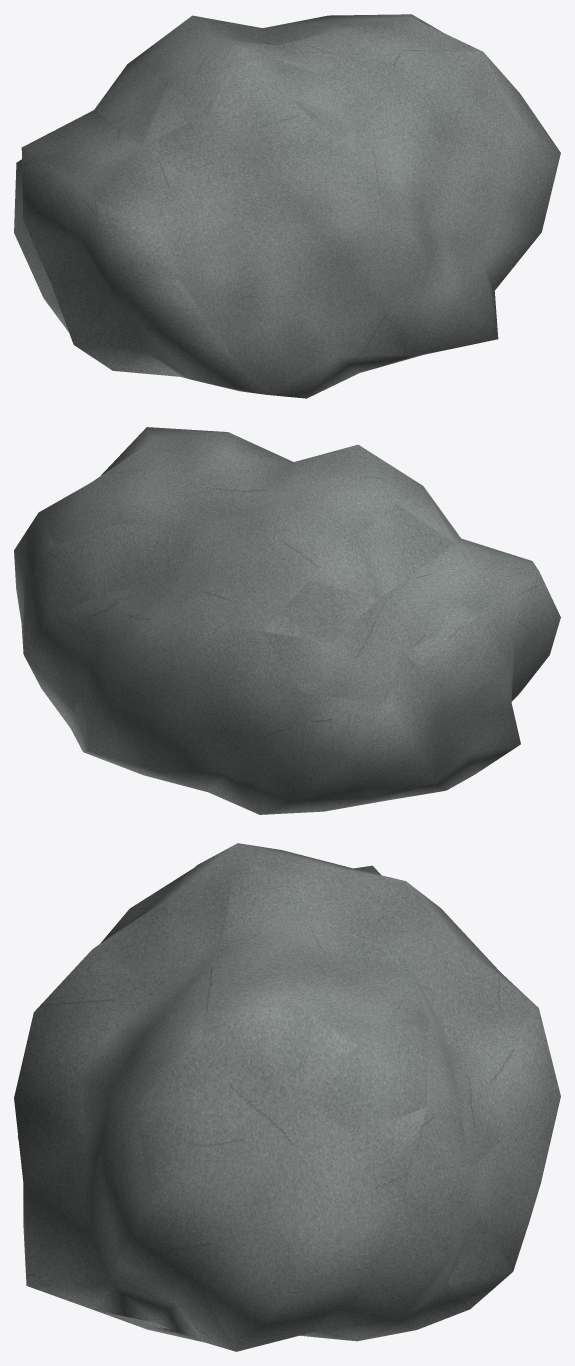
Rendered from boulder.glb.
The picture shows the model from 3 angles, top to bottom: view 1: azimuth 30°, elevation 25°; view 2: azimuth 150°, elevation 25°; view 3: azimuth 270°, elevation 25°; orthographic projection. The views are drawn at different scales.
Parts seen in each view (by area): view 1: Weathered granite; view 2: Weathered granite; view 3: Weathered granite.
Part boxes in pixels (<box>): Weathered granite: <box>14,14,560,398</box>; Weathered granite: <box>14,427,560,814</box>; Weathered granite: <box>14,843,560,1351</box>.
Size of the model in its own units: 4.1 by 2.2 by 3.07.
1 material, 1 textured.
